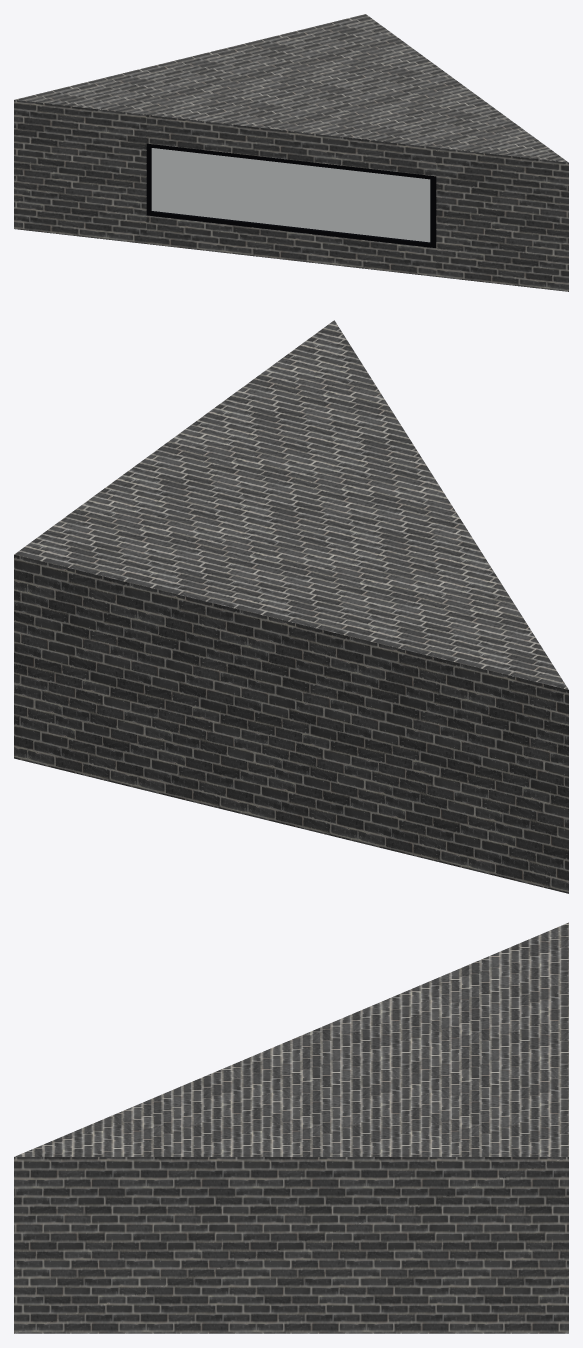
The model's file is Piso.fbx.
3 views of the same model, one above another, from view 1: azimuth 30°, elevation 25°; view 2: azimuth 150°, elevation 25°; view 3: azimuth 270°, elevation 25° (orthographic). The views are drawn at different scales.
Visible parts, largest first — view 1: building_005.004; view 2: building_005.004; view 3: building_005.004.
Part boxes in pixels (left/top/right/bottom): building_005.004: left=14, top=14, right=568, bottom=291; building_005.004: left=14, top=320, right=568, bottom=893; building_005.004: left=14, top=922, right=568, bottom=1333.
Size of the model in its own units: 1000 by 351 by 1000.
Materials: 2 (2 with a texture image).
